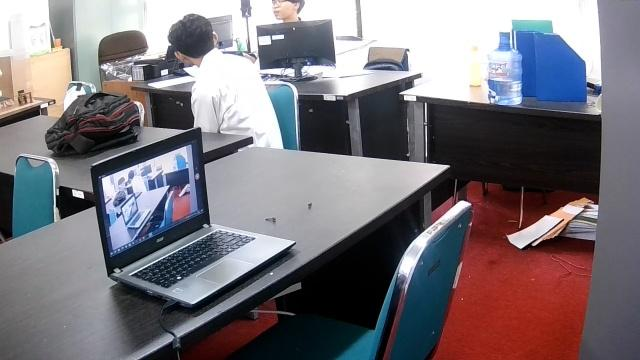Kursi: (219, 199, 474, 359)
Meja: (398, 75, 600, 224)
